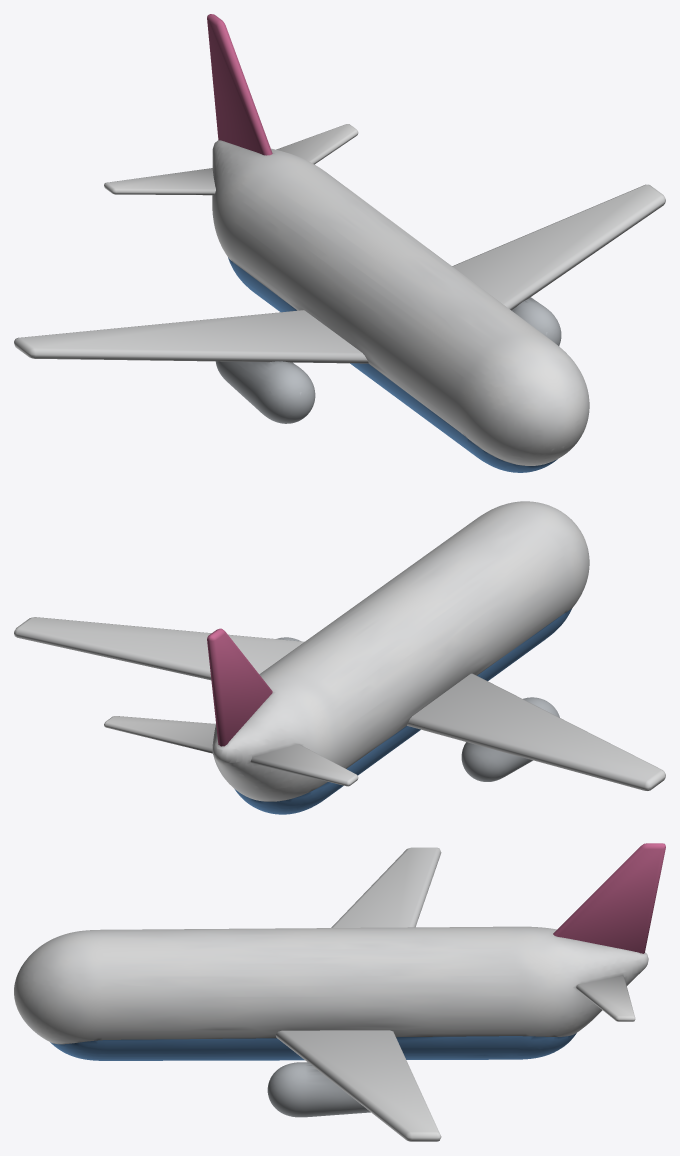
File: avion.glb
3 renders of one model, top to bottom at view 1: azimuth 30°, elevation 25°; view 2: azimuth 150°, elevation 25°; view 3: azimuth 270°, elevation 25°, orthographic. The views are drawn at different scales.
Visible parts, largest first — view 1: fuselage__white, aile-1__white, aile1__white, derive__red, moteur-1__grey, ventre__blue, stab-1__white, stab1__white, moteur1__grey; view 2: fuselage__white, aile-1__white, aile1__white, derive__red, ventre__blue, stab1__white, stab-1__white, moteur-1__grey; view 3: fuselage__white, aile1__white, ventre__blue, derive__red, aile-1__white, moteur1__grey, stab1__white.
Boxes of the visible parts, x1,y1,x2,y2 form: fuselage__white: (212,140,589,465); aile-1__white: (14,310,368,363); aile1__white: (452,184,665,310); derive__red: (207,14,272,155); moteur-1__grey: (215,361,315,423); ventre__blue: (228,257,557,472); stab-1__white: (104,168,215,195); stab1__white: (276,124,358,164); moteur1__grey: (511,297,561,345); fuselage__white: (212,501,589,801); aile-1__white: (407,673,665,790); aile1__white: (14,617,304,680); derive__red: (207,628,272,746); ventre__blue: (234,609,571,814); stab1__white: (104,716,215,753); stab-1__white: (250,744,358,786); moteur-1__grey: (461,697,559,781); fuselage__white: (14,926,648,1044); aile1__white: (275,1030,441,1141); ventre__blue: (50,1033,576,1060); derive__red: (553,843,665,953); aile-1__white: (331,847,441,927); moteur1__grey: (267,1062,370,1117); stab1__white: (576,976,635,1021).
Bounding box in the file's own units: 8.8 × 3.07 × 8.42.
